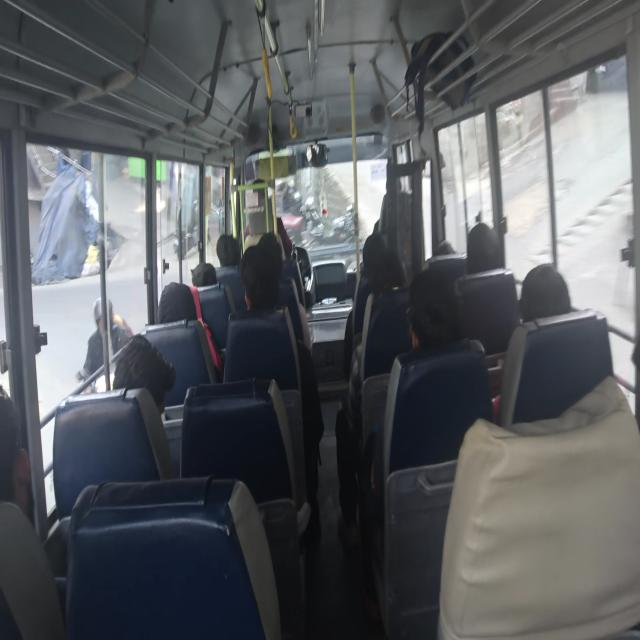person: (357, 267, 493, 622), (224, 237, 324, 531), (156, 261, 224, 378), (112, 333, 176, 419), (78, 296, 133, 390), (405, 268, 463, 351), (0, 384, 33, 519), (157, 261, 217, 324), (519, 262, 571, 322), (466, 221, 502, 274), (216, 233, 240, 267), (191, 261, 217, 287)
